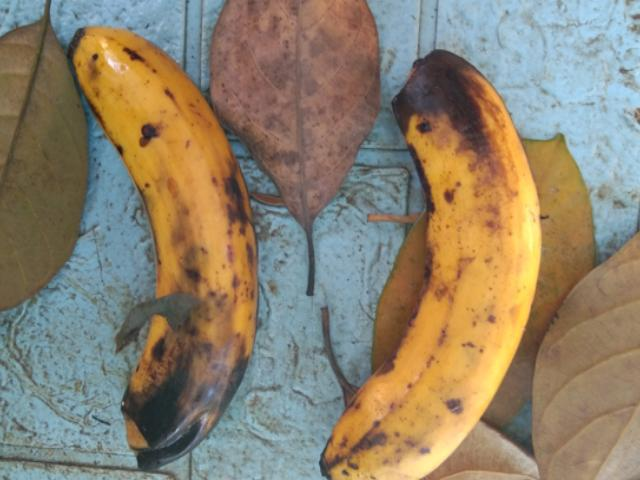overripe: (299, 41, 554, 479)
rotten: (52, 23, 285, 467)
